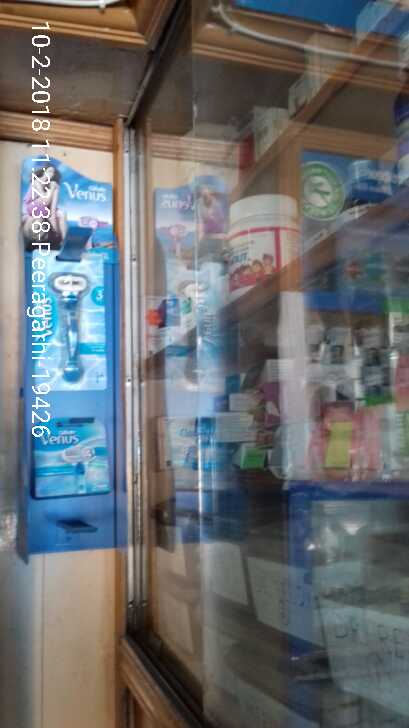venus: (35, 253, 108, 395), (29, 412, 116, 500)
